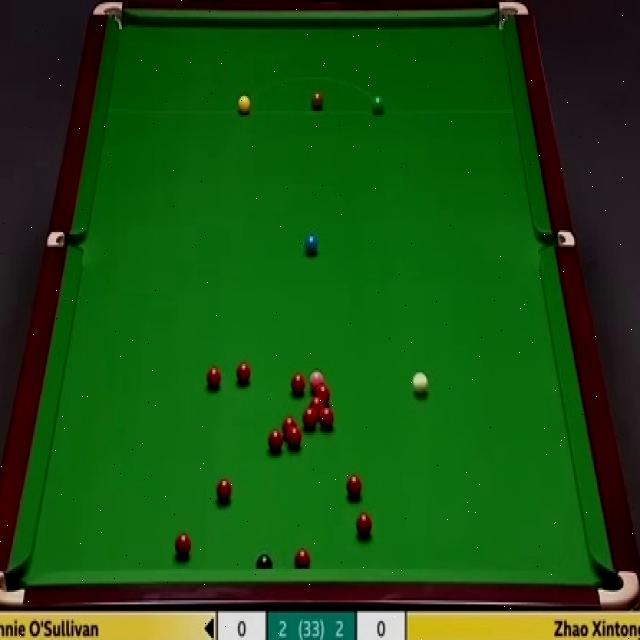black-ball: (255, 550, 272, 570)
blue-ball: (304, 234, 318, 257)
brown-ball: (312, 93, 324, 113)
green-ball: (372, 94, 389, 115)
pink-ball: (308, 368, 324, 384)
red-ball: (175, 531, 192, 561), (356, 510, 373, 538), (266, 428, 284, 454), (215, 477, 231, 504), (205, 365, 221, 391), (235, 361, 252, 385), (286, 426, 303, 450), (347, 475, 362, 502), (302, 408, 317, 431), (294, 550, 311, 570), (291, 372, 305, 394), (320, 409, 334, 429), (314, 385, 331, 401), (281, 416, 298, 431), (310, 396, 325, 409)
white-ball: (412, 369, 430, 396)
yellow-ball: (238, 93, 252, 113)
